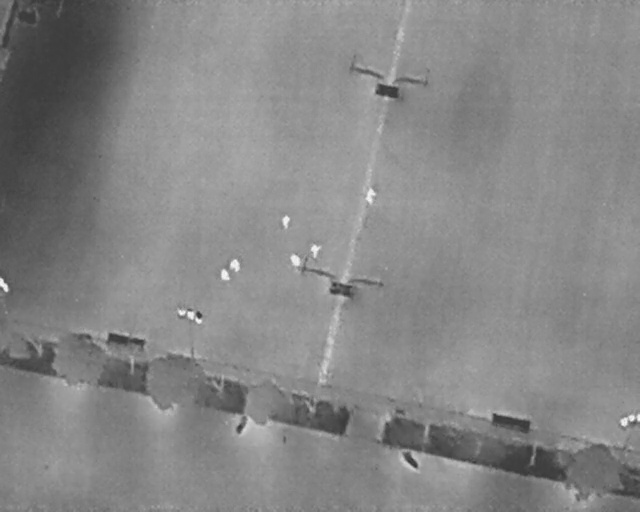Person: (365, 187, 376, 205), (311, 242, 322, 258), (291, 252, 301, 269), (220, 267, 230, 281), (230, 258, 240, 272), (282, 214, 290, 229)
